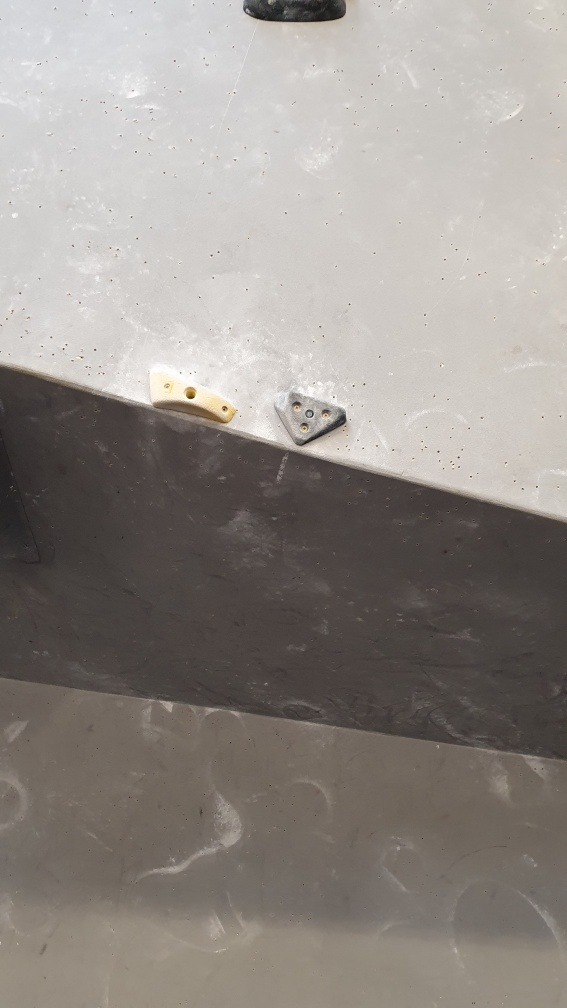Crimp: (272, 385, 353, 449)
Pinch: (144, 363, 238, 427)
